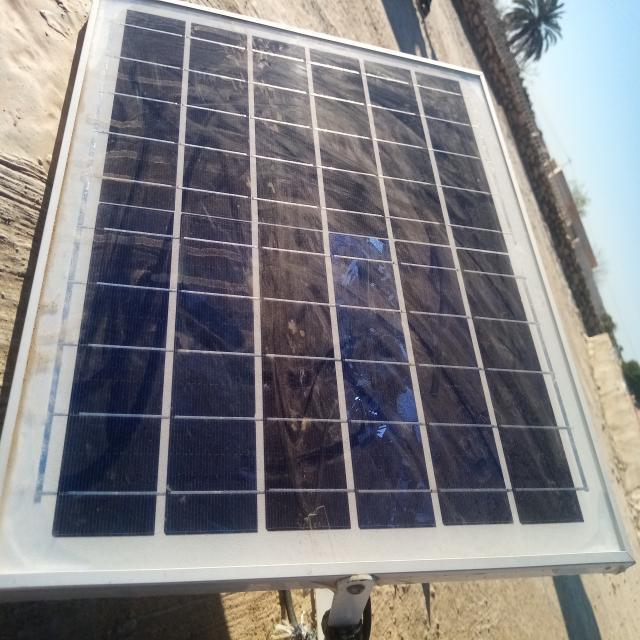Anomaly Solar Panel: (33, 1, 607, 550)
Surface Contaminant: (249, 44, 447, 487)
